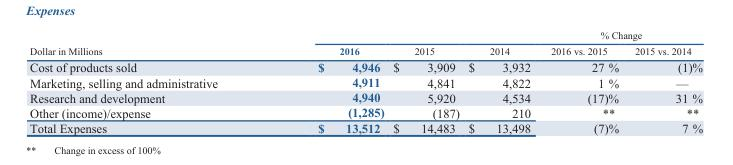table: (29, 29, 702, 134)
table column: (29, 29, 267, 134), (267, 29, 388, 134), (540, 29, 626, 134), (463, 29, 540, 134), (626, 29, 702, 134), (388, 29, 463, 134)
table column header: (29, 29, 702, 58)
table row: (29, 42, 702, 58), (29, 58, 702, 74), (29, 74, 702, 89), (29, 89, 702, 104), (29, 104, 702, 119), (29, 119, 702, 134), (29, 29, 702, 42)
table spanning cell: (29, 29, 267, 58), (267, 29, 388, 58), (463, 29, 540, 58), (388, 29, 463, 58), (540, 29, 702, 42)
